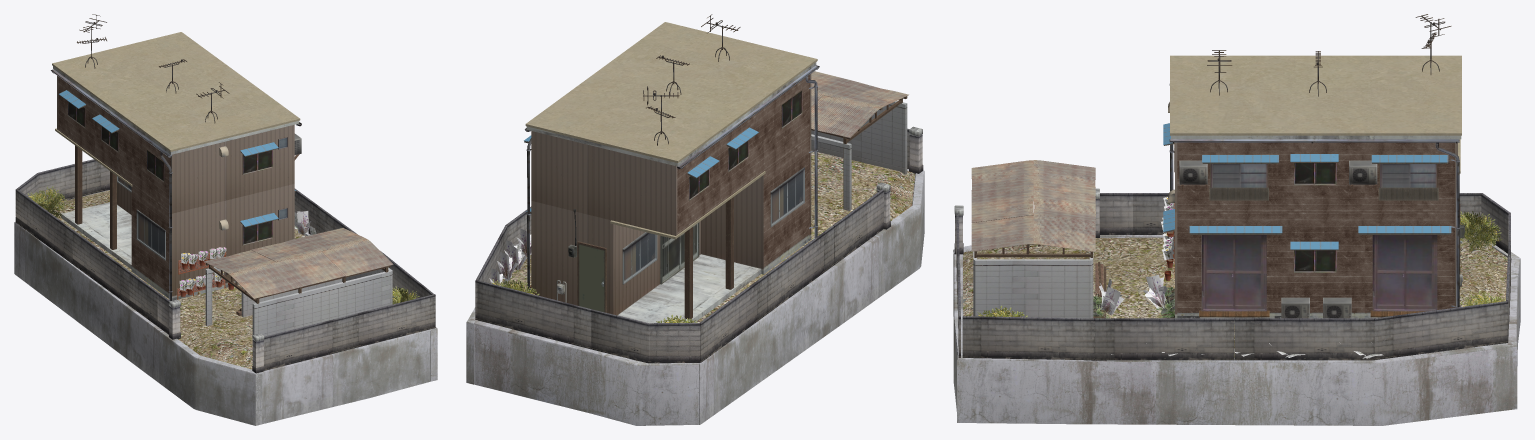
The model's file is houseset12.fbx.
3 renders of one model, left to right at view 1: azimuth 30°, elevation 25°; view 2: azimuth 150°, elevation 25°; view 3: azimuth 270°, elevation 25°, orthographic. The views are drawn at different scales.
Visible parts, largest first — view 1: houseset12; view 2: houseset12; view 3: houseset12.
Boxes of the visible parts, <box> form: houseset12: <box>14,14,437,425</box>; houseset12: <box>466,14,924,425</box>; houseset12: <box>953,14,1520,425</box>.
Bounding box in the file's own units: 867 × 1561 × 962.
Materials: 19 (19 with a texture image).
